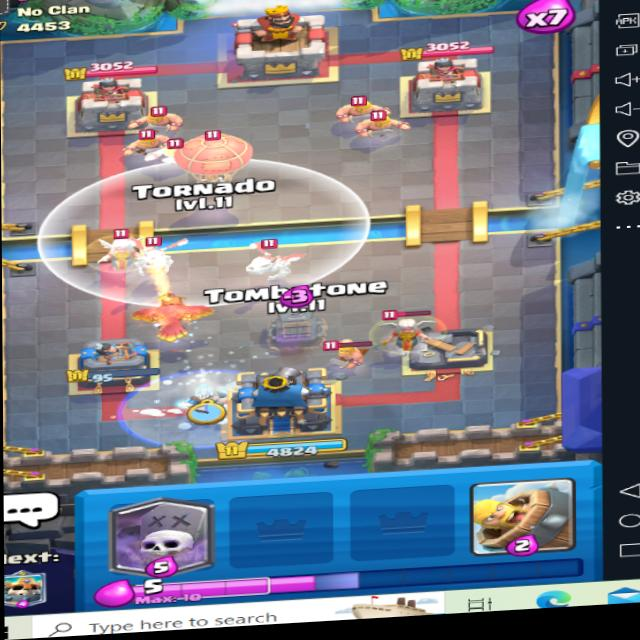Balloon: (176, 130, 251, 198)
Barbarian: (325, 329, 372, 371), (122, 124, 182, 155), (140, 96, 188, 133), (360, 107, 410, 142), (152, 134, 202, 166), (337, 95, 389, 122)
Battlehealer: (368, 300, 450, 354), (87, 221, 155, 278)
Skeletondragon: (234, 244, 310, 283), (128, 236, 194, 278)
